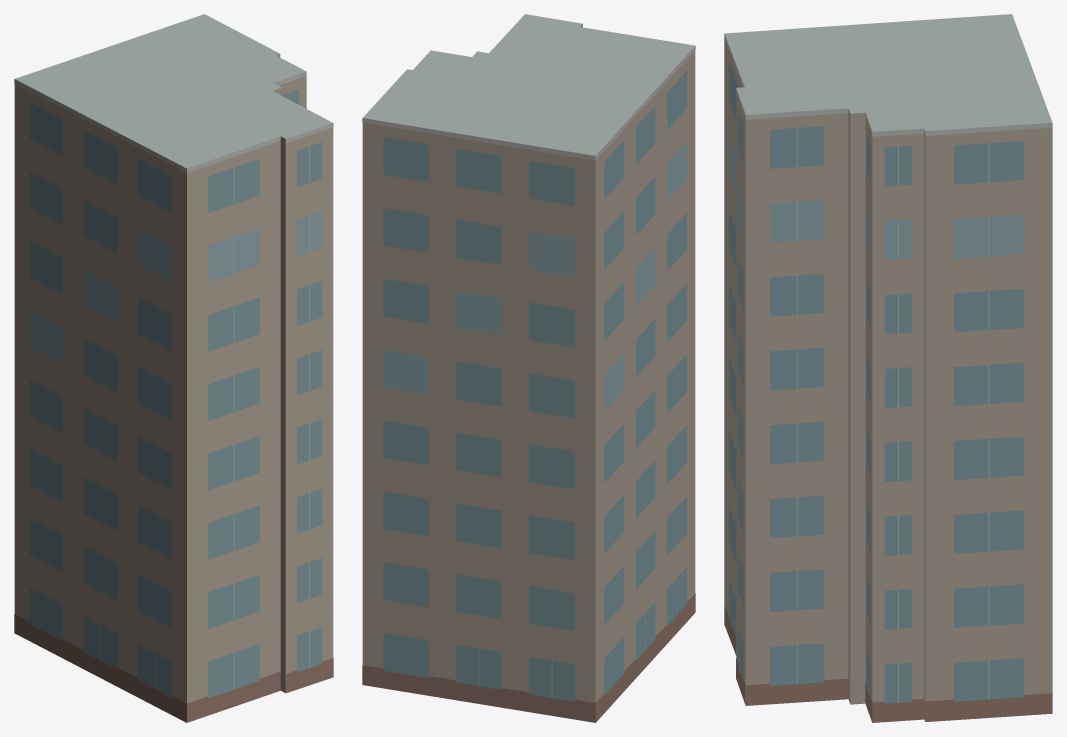
File: survey-upis-32713223.glb
3 renders of one model, left to right at view 1: azimuth 30°, elevation 25°; view 2: azimuth 150°, elevation 25°; view 3: azimuth 270°, elevation 25°, orthographic. The views are drawn at different scales.
Visible parts, largest first — view 1: survey-upis-32713223.tmp; view 2: survey-upis-32713223.tmp; view 3: survey-upis-32713223.tmp.
Boxes of the visible parts, x1,y1,x2,y2 form: survey-upis-32713223.tmp: (14,14,333,722); survey-upis-32713223.tmp: (362,14,695,722); survey-upis-32713223.tmp: (724,14,1052,722).
Size of the model in its own units: 12.75 by 29.78 by 15.
